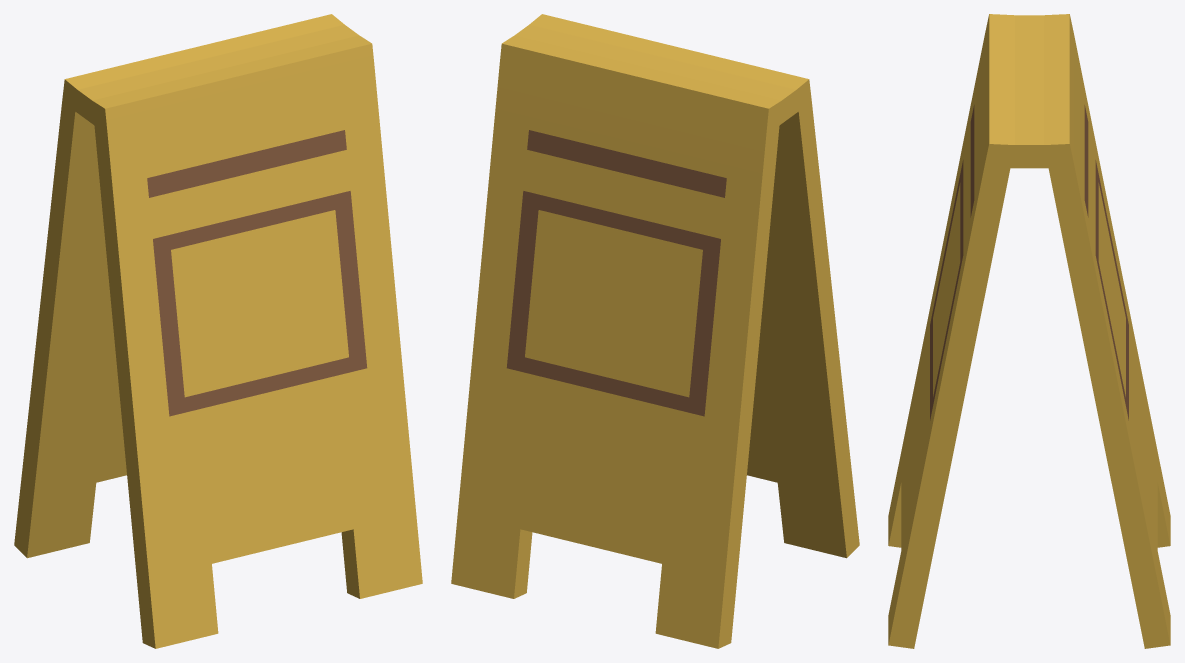
The model's file is SM_Sign.fbx.
3 renders of one model, left to right at view 1: azimuth 30°, elevation 25°; view 2: azimuth 150°, elevation 25°; view 3: azimuth 270°, elevation 25°, orthographic.
Visible parts, largest first — view 1: SM_Sign; view 2: SM_Sign; view 3: SM_Sign.
Part boxes in pixels (x1,y1,x2,y2): SM_Sign: (14,14,422,648); SM_Sign: (451,14,859,648); SM_Sign: (888,14,1170,648).
Size of the model in its own units: 0.5696 by 1.03 by 0.5225.
